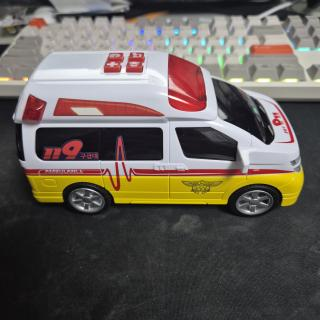Ambulance: (15, 52, 303, 216)
